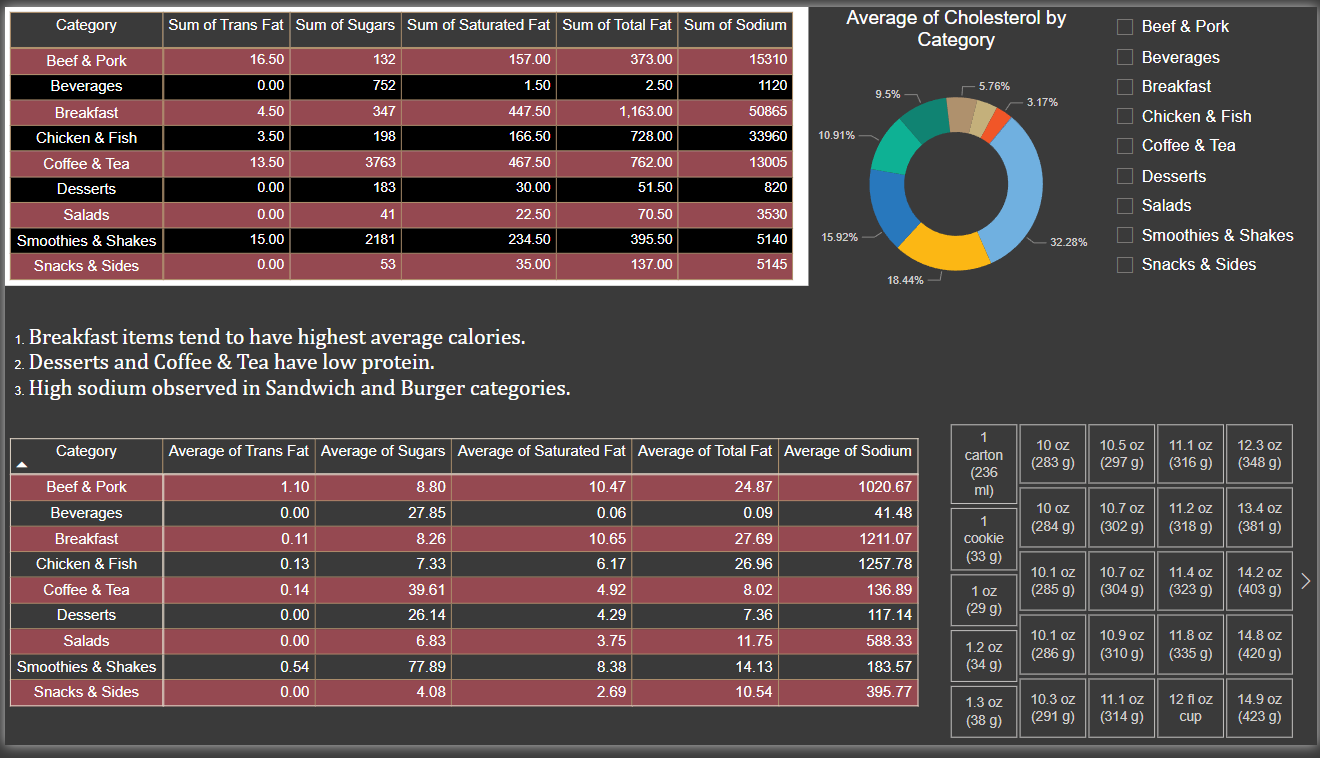

What the dashboard file says about the page in this screenshot:
{"tool":"powerbi","page":{"name":"Page 2","canvas":[1280,720],"ordinal":1},"visuals":[{"type":"pivotTable","fields":{"Rows":["menu.Category"],"Values":["Sum(menu.Trans Fat)","Sum(menu.Sugars)","Sum(menu.Saturated Fat)","Sum(menu.Total Fat)","Sum(menu.Sodium)"]},"box":[0,0,784,272],"z":0},{"type":"pivotTable","fields":{"Rows":["menu.Category"],"Values":["Avg(menu.Trans Fat)","Avg(menu.Sugars)","Avg(menu.Saturated Fat)","Avg(menu.Total Fat)","Avg(menu.Sodium)"]},"box":[0,416,896,304],"z":1000},{"type":"slicer","fields":{"Values":["menu.Category"]},"box":[1072,0,208,272],"z":2000},{"type":"slicer","fields":{"Values":["menu.Serving Size"]},"box":[896,400,384,320],"z":3000},{"type":"textbox","box":[0,304,672,96],"z":4000},{"type":"donutChart","fields":{"Category":["menu.Category"],"Y":["Avg(menu.Cholesterol)"]},"box":[784,0,288,304],"z":5000}]}

Visuals, with their boxes in screenshot pixels (x1, y1, x2, y2), scaled from the page's 1280x720 canvas onto the 1320x758 screenshot:
pivotTable - menu.Category x Sum(menu.Trans Fat): <region>0, 0, 808, 286</region>
pivotTable - menu.Category x Avg(menu.Trans Fat): <region>0, 438, 924, 757</region>
slicer - menu.Category: <region>1106, 0, 1319, 286</region>
slicer - menu.Serving Size: <region>924, 421, 1319, 757</region>
textbox: <region>0, 320, 693, 421</region>
donutChart - menu.Category x Avg(menu.Cholesterol): <region>808, 0, 1106, 320</region>
